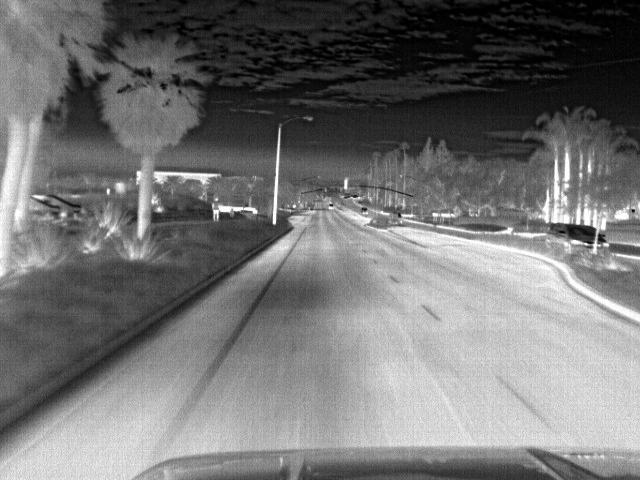car: (554, 222, 610, 250)
person: (210, 197, 222, 223)
